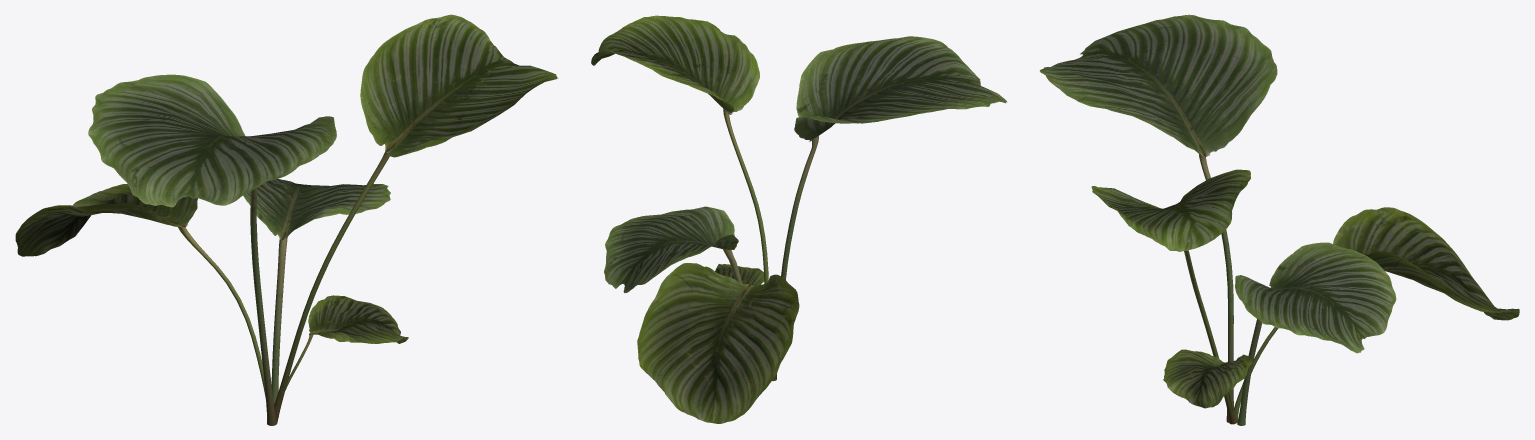
The model's file is calathea_orbifolia_01_03.glb.
3 views of the same model, side by side, from view 1: azimuth 30°, elevation 25°; view 2: azimuth 150°, elevation 25°; view 3: azimuth 270°, elevation 25° (orthographic). The views are drawn at different scales.
Parts seen in each view (by area): view 1: calathea_orbifolia_01; view 2: calathea_orbifolia_01; view 3: calathea_orbifolia_01.
Part boxes in pixels (x1,y1,x2,y2): calathea_orbifolia_01: (15,14,558,425); calathea_orbifolia_01: (591,15,1007,423); calathea_orbifolia_01: (1040,14,1519,425).
Size of the model in its own units: 0.3752 by 0.284 by 0.3838.
1 material, 1 textured.
